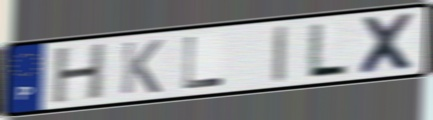H: (49, 40, 110, 107)
I: (271, 22, 290, 85)
K: (118, 38, 166, 97)
L: (303, 21, 351, 78), (181, 34, 227, 92)
X: (356, 11, 420, 77)
